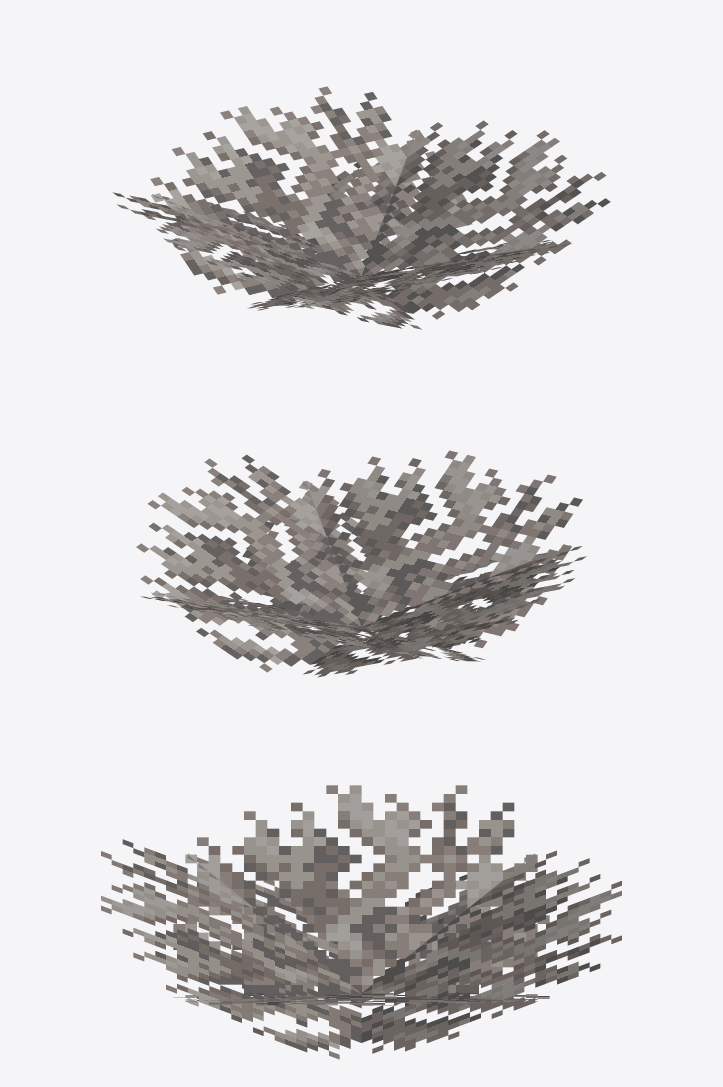
The model's file is block_dead_fire_coral_fan.gltf.
3 renders of one model, top to bottom at view 1: azimuth 30°, elevation 25°; view 2: azimuth 150°, elevation 25°; view 3: azimuth 270°, elevation 25°, orthographic. The views are drawn at different scales.
Parts seen in each view (by area): view 1: cube (×4); view 2: cube (×4); view 3: cube (×4).
Boxes of the visible parts, x1,y1,x2,y2 form: cube (×4): [112, 86, 610, 329]; cube (×4): [136, 450, 586, 677]; cube (×4): [101, 785, 621, 1059].
Size of the model in its own units: 1.85 by 0.3827 by 1.85.
Materials: 1 (1 with a texture image).
